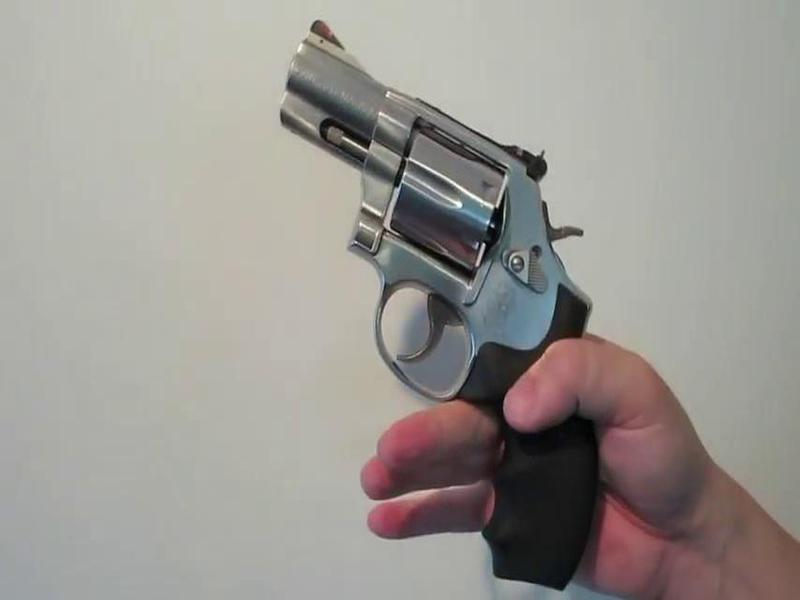Revolver: (247, 29, 597, 580)
